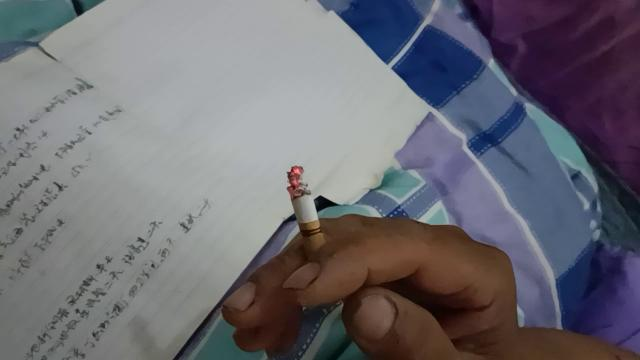Cigarette: (288, 165, 334, 285)
